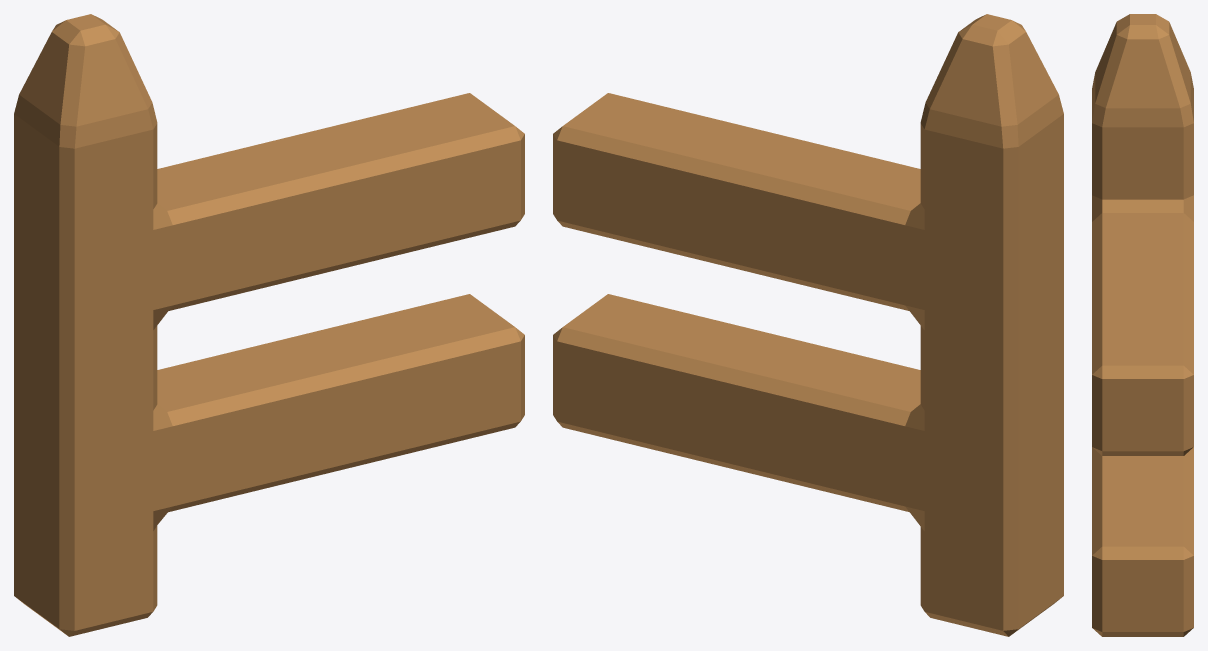
The model's file is Fence1l.fbx.
3 renders of one model, left to right at view 1: azimuth 30°, elevation 25°; view 2: azimuth 150°, elevation 25°; view 3: azimuth 270°, elevation 25°, orthographic. The views are drawn at different scales.
Visible parts, largest first — view 1: Fence1; view 2: Fence1; view 3: Fence1.
Part boxes in pixels (box(x1,y1,x2,y2)): Fence1: box(14, 14, 524, 636); Fence1: box(553, 14, 1063, 636); Fence1: box(1092, 14, 1193, 636).
Size of the model in its own units: 117 by 141 by 24.56.
